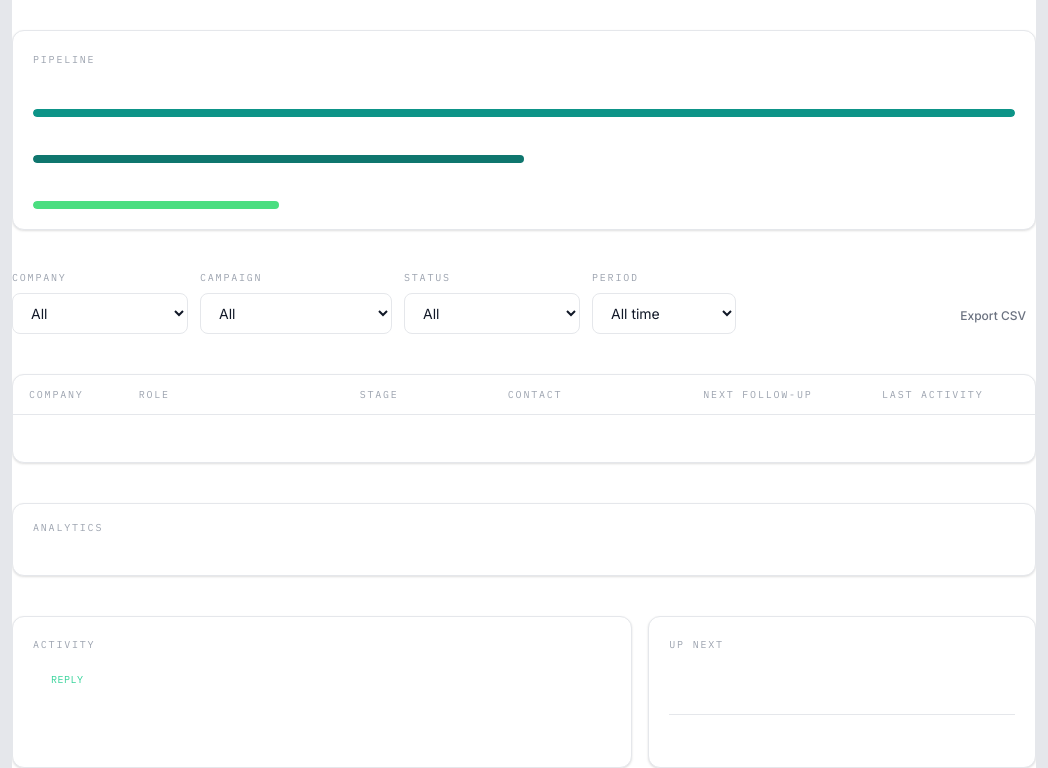
Scenario: Pipeline analytics › lists the most responsive industries
The image size is (1048, 768).
(page scrolled)
Click the button "Analytics".
click(68, 527)  # box [13,504,1035,574]
(page scrolled)
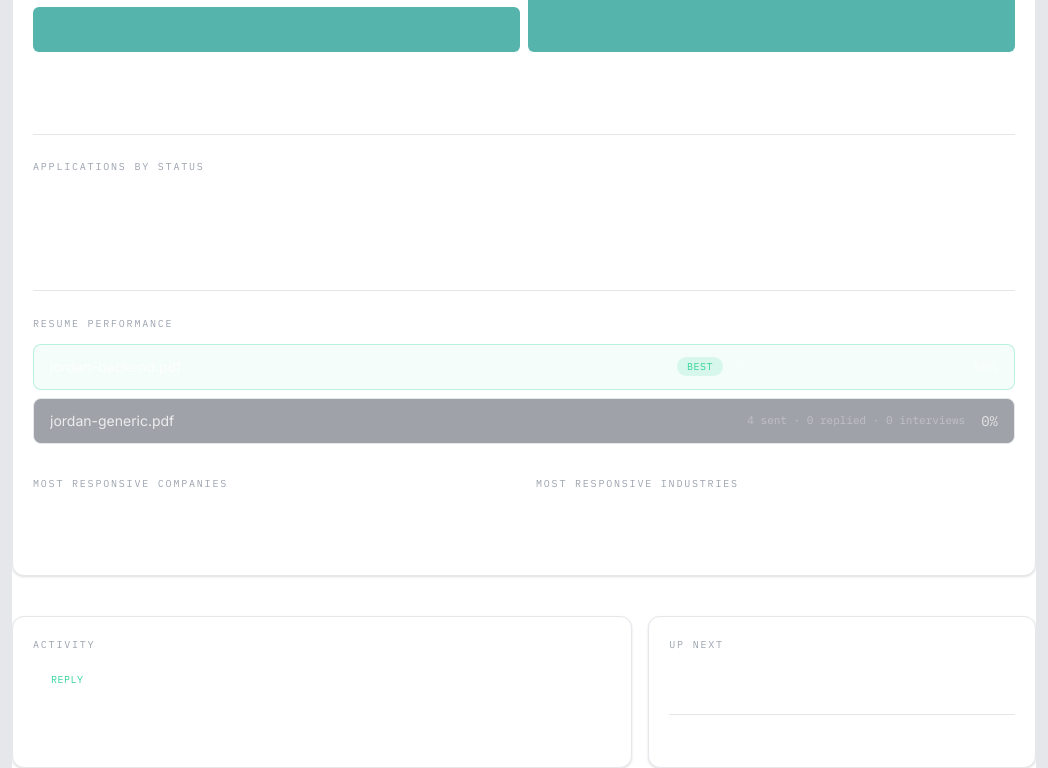
Expected: the text "Most responsive industries" is shown, [536,476,739,490]
Expected: the text "Most responsive companies" is shown, [33,476,228,490]
